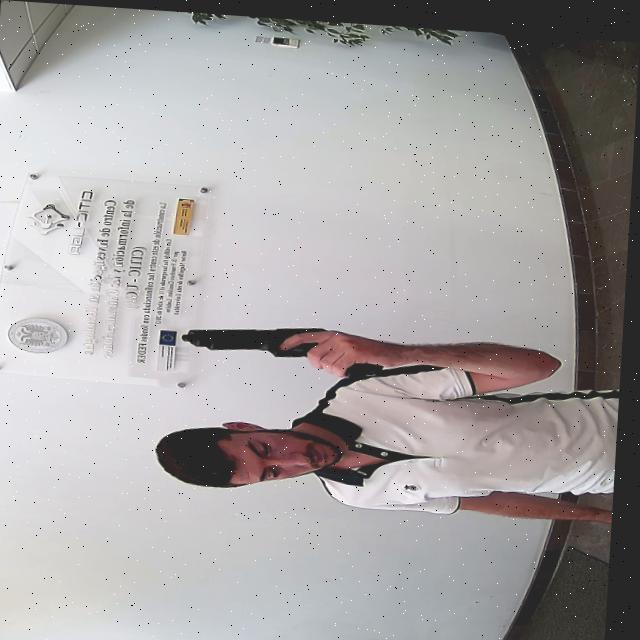pistol: (183, 315, 333, 356)
